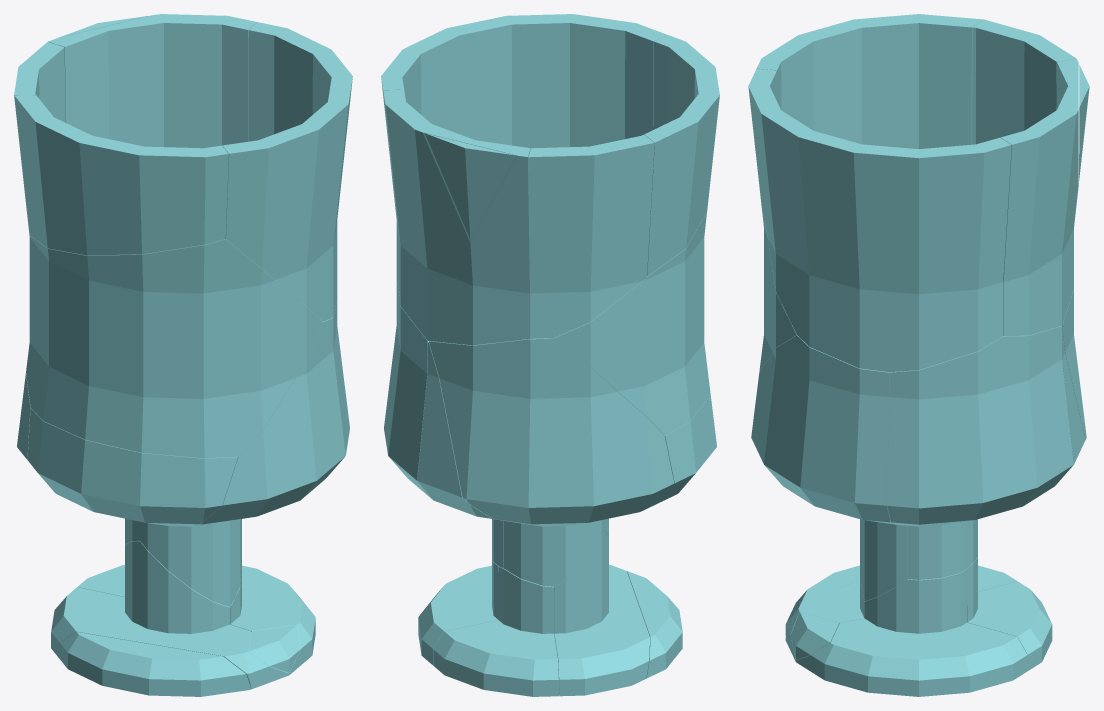
The model's file is bier glas riss.fbx.
3 views of the same model, side by side, from view 1: azimuth 30°, elevation 25°; view 2: azimuth 150°, elevation 25°; view 3: azimuth 270°, elevation 25° (orthographic).
Visible parts, largest first — view 1: bier glas_cell.003, bier glas_cell.014, bier glas_cell.007, bier glas_cell.013, bier glas_cell.008, bier glas_cell.012, bier glas_cell.002, bier glas_cell.006, bier glas_cell.004, bier glas_cell.009, bier glas_cell.015, bier glas_cell.010 (+1 smaller); view 2: bier glas_cell.005, bier glas_cell.014, bier glas_cell.013, bier glas_cell.009, bier glas_cell.003, bier glas_cell.007, bier glas_cell.002, bier glas_cell.010, bier glas_cell, bier glas_cell.011, bier glas_cell.001, bier glas_cell.004 (+2 smaller); view 3: bier glas_cell.014, bier glas_cell.011, bier glas_cell.007, bier glas_cell.008, bier glas_cell.004, bier glas_cell.013, bier glas_cell.009, bier glas_cell.010, bier glas_cell.002, bier glas_cell.003, bier glas_cell.015, bier glas_cell (+3 smaller).
Boxes of the visible parts, x1,y1,x2,y2 form: bier glas_cell.003: (26, 235, 322, 458); bier glas_cell.014: (222, 22, 352, 321); bier glas_cell.007: (14, 95, 228, 255); bier glas_cell.013: (48, 14, 257, 148); bier glas_cell.008: (140, 300, 349, 606); bier glas_cell.012: (27, 408, 237, 524); bier glas_cell.002: (51, 541, 289, 689); bier glas_cell.006: (58, 632, 250, 696); bier glas_cell.004: (230, 563, 315, 674); bier glas_cell.009: (14, 42, 64, 235); bier glas_cell.015: (249, 625, 300, 672); bier glas_cell.010: (77, 564, 124, 596); bier glas_cell.005: (429, 338, 674, 525); bier glas_cell.014: (381, 14, 666, 285); bier glas_cell.013: (383, 89, 530, 345); bier glas_cell.009: (528, 134, 654, 338); bier glas_cell.003: (553, 212, 710, 435); bier glas_cell.007: (644, 35, 719, 276); bier glas_cell.002: (554, 533, 649, 696); bier glas_cell.010: (433, 566, 558, 696); bier glas_cell: (417, 341, 605, 586); bier glas_cell.011: (384, 282, 503, 568); bier glas_cell.001: (425, 133, 515, 239); bier glas_cell.004: (418, 553, 498, 664); bier glas_cell.014: (748, 68, 1011, 372); bier glas_cell.011: (887, 326, 1073, 579); bier glas_cell.007: (756, 14, 983, 148); bier glas_cell.008: (751, 335, 907, 600); bier glas_cell.004: (796, 569, 1027, 696); bier glas_cell.013: (1000, 58, 1078, 335); bier glas_cell.009: (972, 19, 1075, 144); bier glas_cell.010: (967, 557, 1052, 670); bier glas_cell.002: (785, 565, 1016, 661); bier glas_cell.003: (759, 213, 796, 370); bier glas_cell.015: (791, 612, 838, 659); bier glas_cell: (973, 326, 1085, 561).
Bounding box in the file's own units: 149 × 267 × 149.
